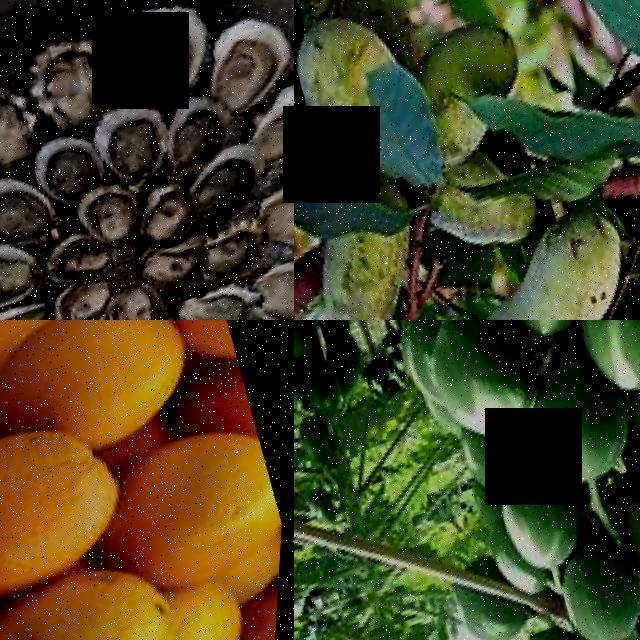orange: (95, 416, 291, 615), (0, 320, 201, 451), (0, 415, 122, 623), (0, 552, 200, 640)
oysters: (109, 0, 228, 111), (17, 29, 128, 141), (206, 11, 294, 118), (90, 105, 180, 199), (188, 142, 277, 228), (0, 167, 74, 267), (160, 91, 241, 180), (197, 213, 282, 292), (33, 131, 111, 211), (39, 228, 121, 299), (137, 236, 214, 304), (245, 73, 294, 179), (133, 184, 204, 256), (75, 182, 144, 252), (79, 183, 147, 254), (0, 78, 41, 184), (256, 156, 294, 270), (0, 235, 48, 320), (177, 281, 264, 320), (255, 239, 294, 320), (107, 281, 177, 320), (51, 282, 120, 320)
pawpaw: (411, 320, 557, 466), (523, 349, 640, 497), (492, 447, 596, 581), (556, 540, 640, 640), (564, 320, 640, 409), (299, 356, 355, 429), (612, 460, 640, 597), (327, 324, 376, 399), (295, 413, 344, 478), (294, 351, 319, 424), (294, 320, 327, 365)
